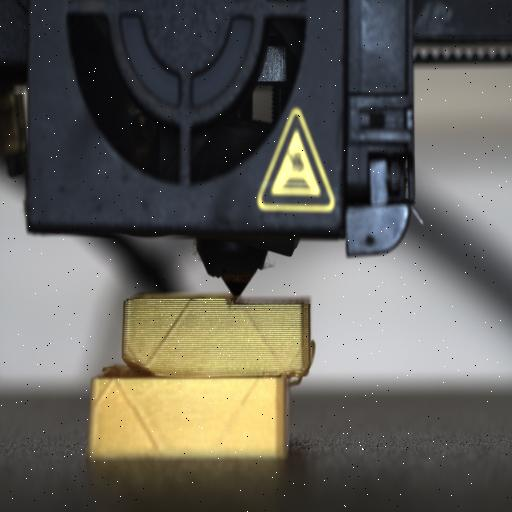layer_shift: (89, 360, 314, 384)
